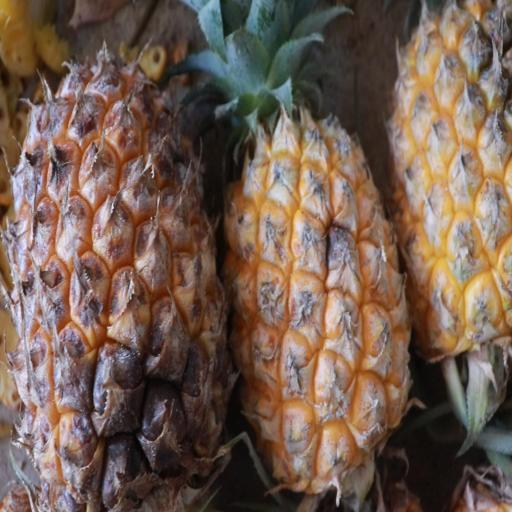Pineapple - v8 v1: (8, 37, 235, 512), (220, 34, 410, 495), (383, 4, 512, 365)
